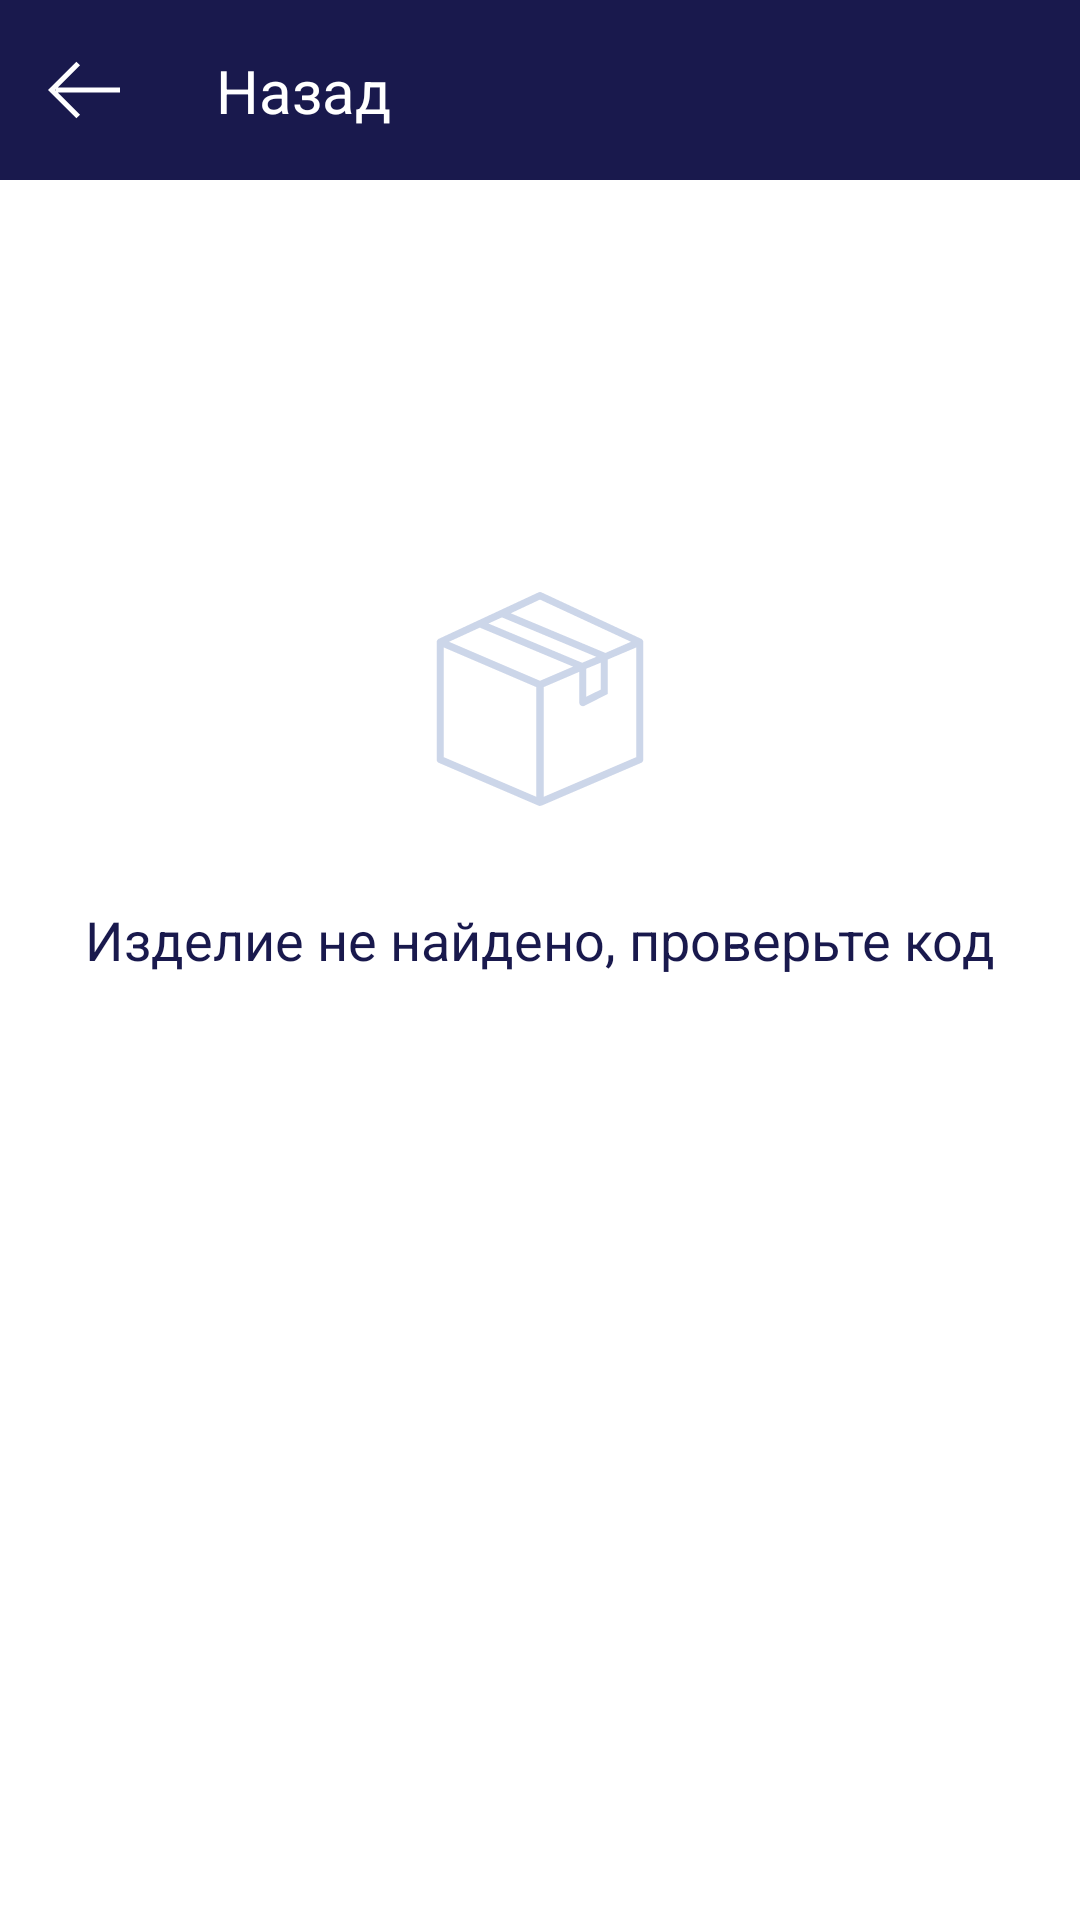

Where icons sit on this 1080 x 1920 app screen, as (x1, y1, x2, y2):
back: (48, 62, 120, 118)
box: (437, 592, 643, 806)
